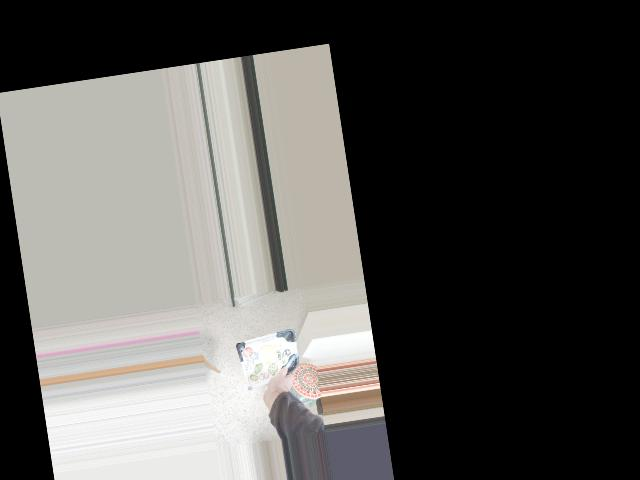cheese: (238, 346, 295, 400)
